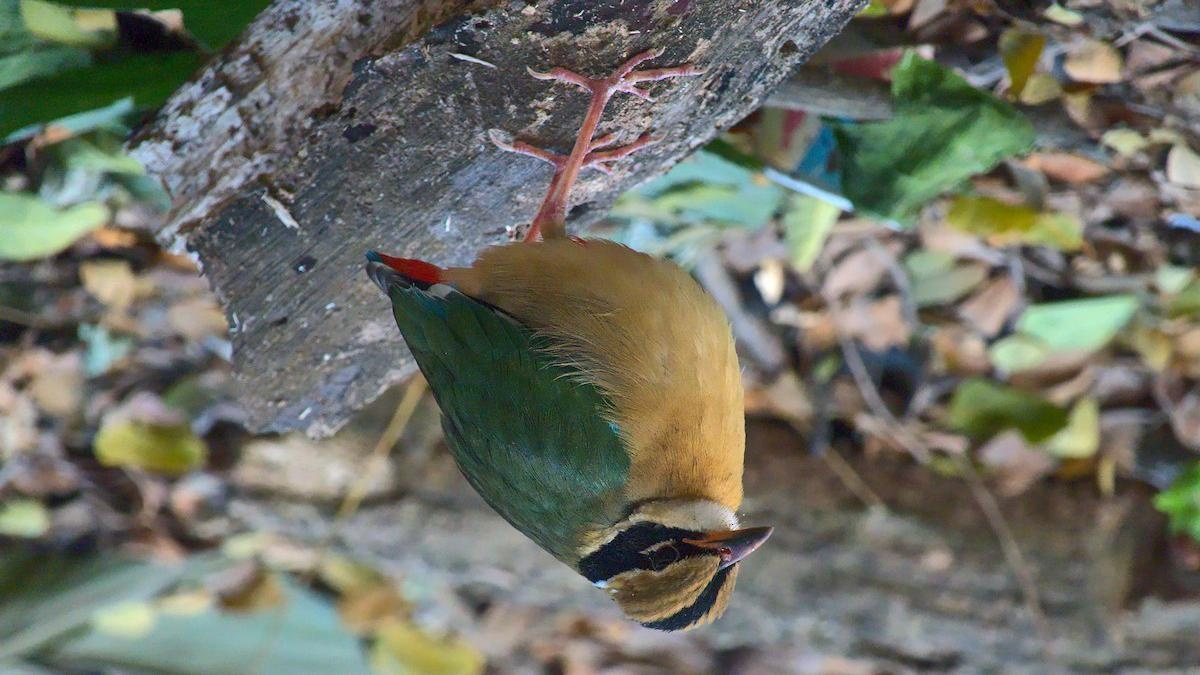pitta: (374, 50, 781, 655)
